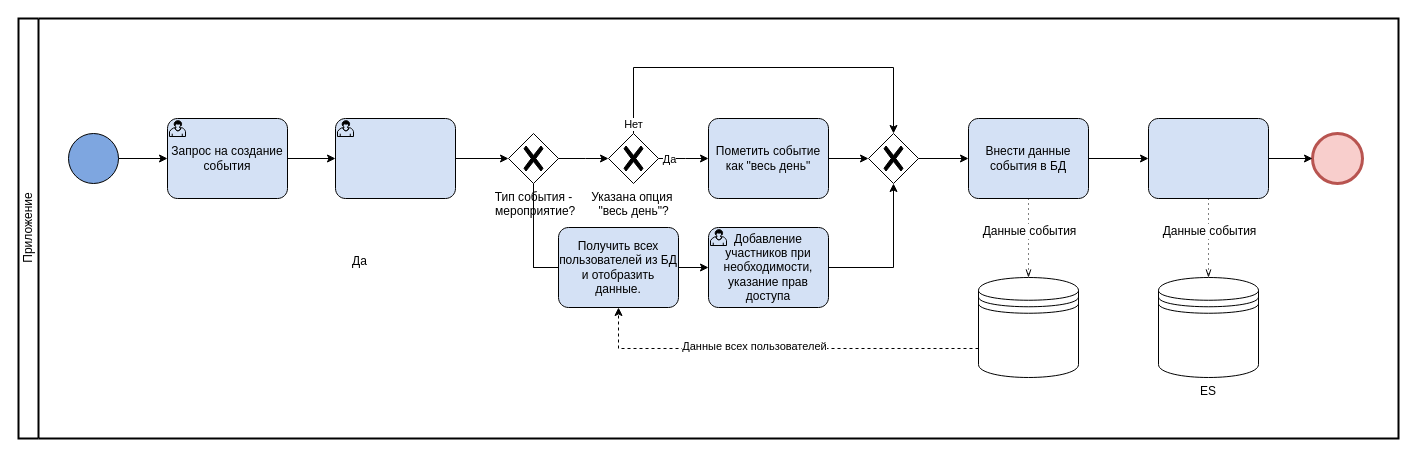
Image size: 1416x456. Some labels were removed from this diagram. Here are the shapes that lost their labels. From the top down, the centre of each, then its label:
At (x=93, y=158): "Вход в систему".
At (x=395, y=158): "Указание даты, описания, типа, опций, выбор тегов".
At (x=1208, y=158): "Внести данные события в ElasticSearch".
At (x=1337, y=158): "Событие создано".
At (x=1028, y=327): "БД".
